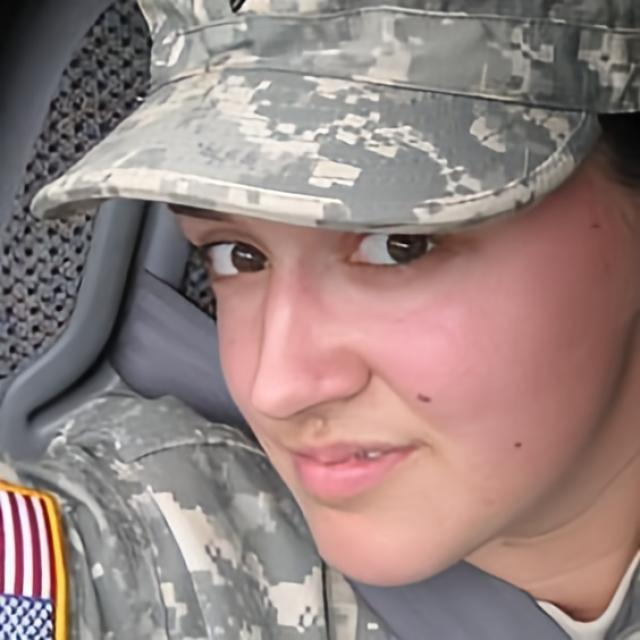happy: (163, 143, 640, 589)
